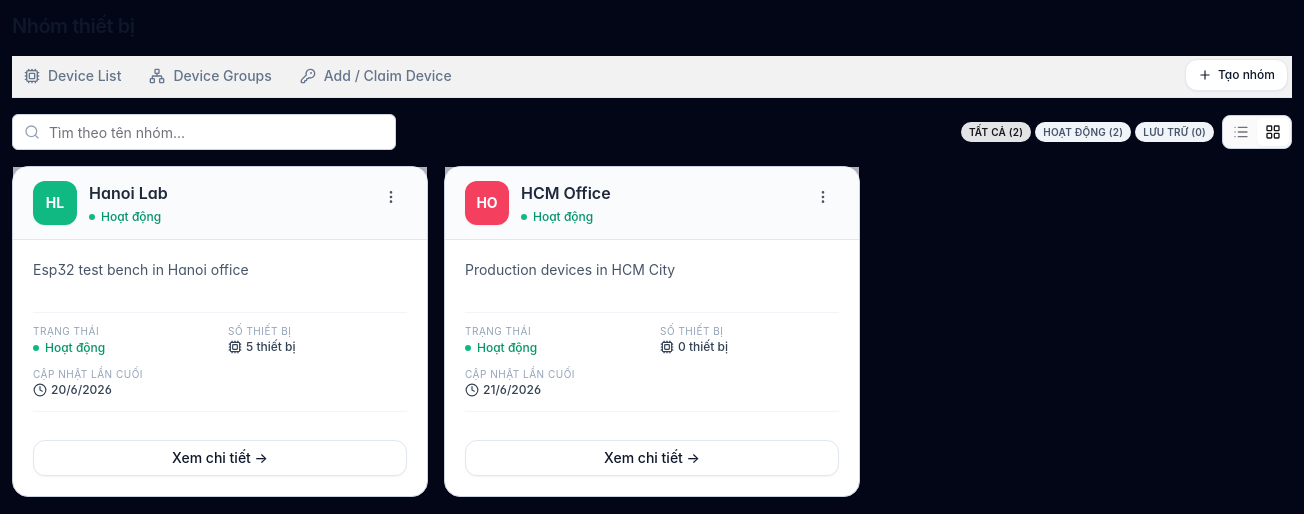
ClientDeviceGroups page actions dropdown › opens the actions menu with correct Vietnamese labels when clicking the kebab button
Expected: the heading "Hanoi Lab" is shown, [89, 183, 168, 203]
# Open menu for the first row
Click the button named "Open device group actions" in the row of "Hanoi Lab": (391, 197) [375, 181, 407, 213]
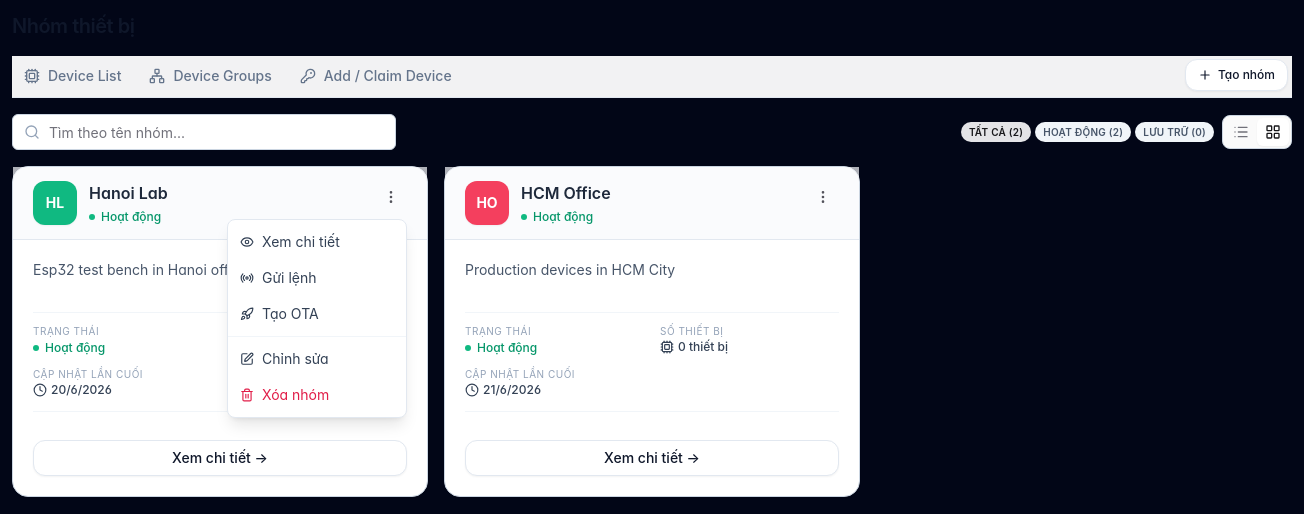
Expected: the menu item "Xem chi tiết" is shown, [228, 224, 406, 260]
Expected: the menu item "Gửi lệnh" is enabled, [228, 260, 406, 296]
Expected: the menu item "Tạo OTA" is enabled, [228, 296, 406, 332]
